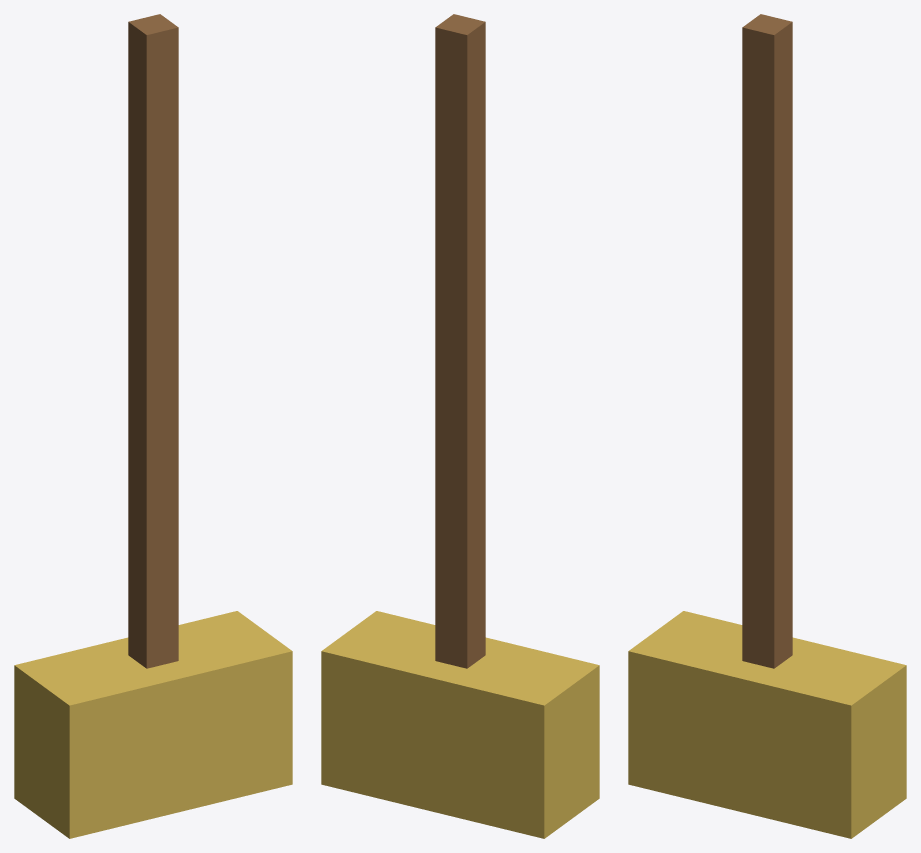
The model's file is broom.glb.
3 renders of one model, left to right at view 1: azimuth 30°, elevation 25°; view 2: azimuth 150°, elevation 25°; view 3: azimuth 330°, elevation 25°, orthographic.
Parts seen in each view (by area): view 1: broom; view 2: broom; view 3: broom.
Part boxes in pixels (x1=…): broom: x1=14, y1=14, x2=292, y2=838; broom: x1=321, y1=14, x2=599, y2=838; broom: x1=628, y1=14, x2=906, y2=838.
Bounding box in the file's own units: 0.35 × 1.15 × 0.15.
1 material, 1 textured.
